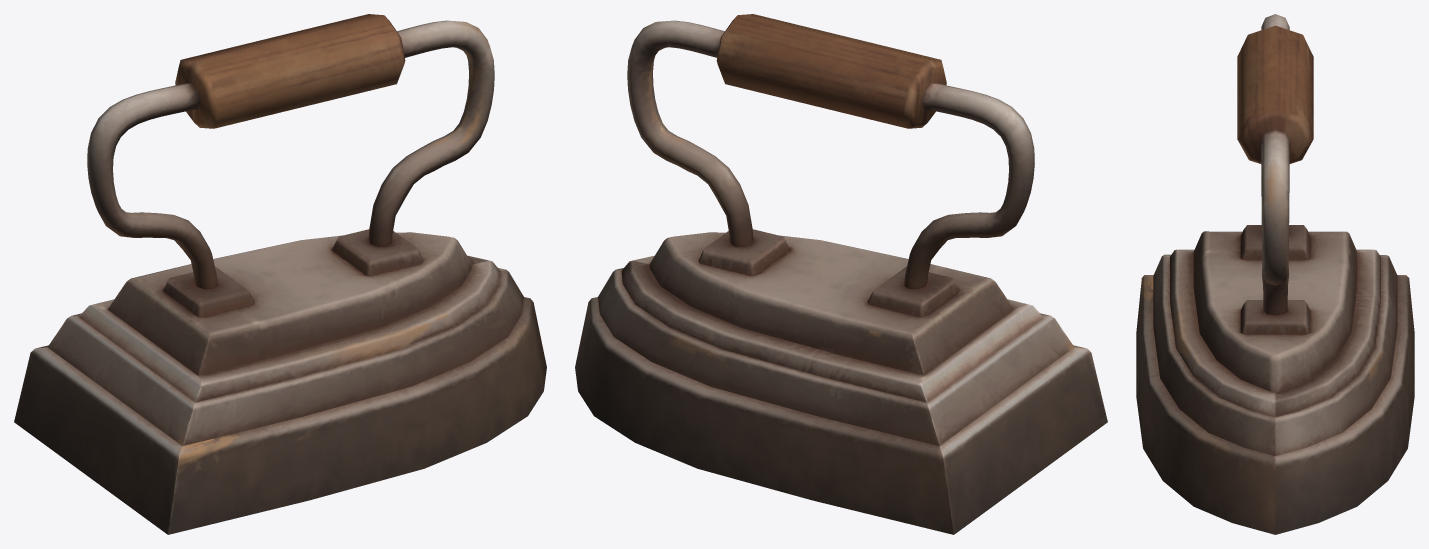
The model's file is SM_Iron.fbx.
3 views of the same model, side by side, from view 1: azimuth 30°, elevation 25°; view 2: azimuth 150°, elevation 25°; view 3: azimuth 270°, elevation 25° (orthographic). The views are drawn at different scales.
Visible parts, largest first — view 1: SM_Iron_LOD0; view 2: SM_Iron_LOD0; view 3: SM_Iron_LOD0.
Boxes of the visible parts, x1,y1,x2,y2 form: SM_Iron_LOD0: (14, 14, 546, 534); SM_Iron_LOD0: (575, 14, 1107, 534); SM_Iron_LOD0: (1136, 14, 1414, 534).
Bounding box in the file's own units: 27.21 × 15.87 × 22.26.
1 material, 1 textured.
